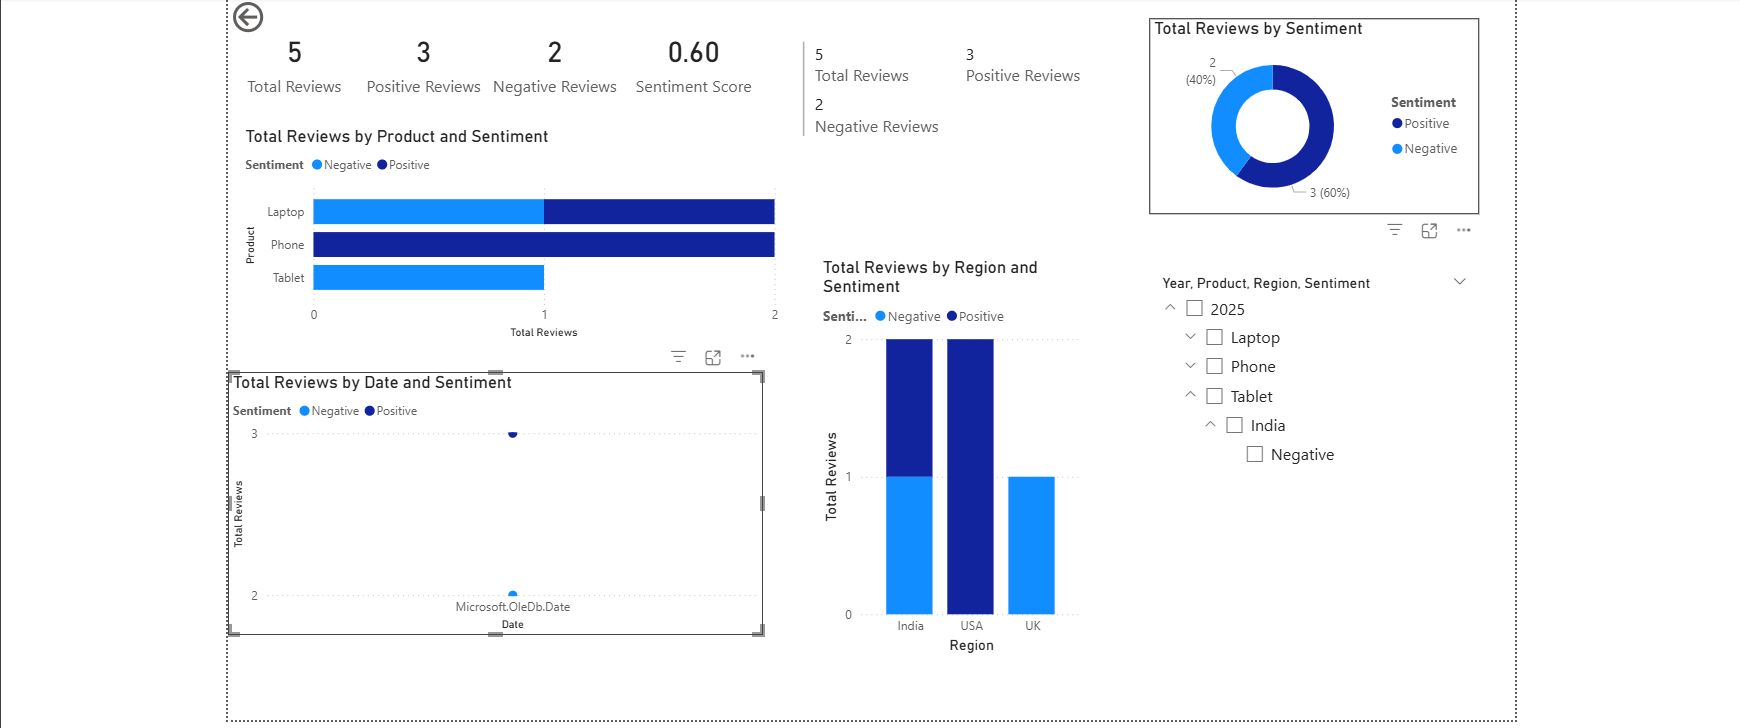

This screenshot's page, from the dashboard's own definition file:
{"tool":"powerbi","page":{"name":"Page 1","canvas":[1280,720],"ordinal":0},"visuals":[{"type":"card","fields":{"Values":["FactReviews.Total Reviews"]},"box":[9.6,0,112.5,127.6],"z":0},{"type":"card","fields":{"Values":["FactReviews.Positive Reviews"]},"box":[131.7,0,126.2,127.6],"z":1000},{"type":"card","fields":{"Values":["FactReviews.Negative Reviews"]},"box":[258,0,135.8,127.6],"z":2000},{"type":"card","fields":{"Values":["FactReviews.Sentiment Score"]},"box":[393.8,0,138.6,127.6],"z":3000},{"type":"multiRowCard","fields":{"Values":["FactReviews.Total Reviews","FactReviews.Positive Reviews","FactReviews.Negative Reviews"]},"box":[566.7,39.8,322.5,161.9],"z":4000},{"type":"donutChart","fields":{"Category":["FactReviews.Sentiment"],"Y":["FactReviews.Total Reviews"]},"box":[916.6,20.6,328,196.2],"z":5000},{"type":"barChart","fields":{"Category":["FactReviews.Product"],"Series":["FactReviews.Sentiment"],"Y":["FactReviews.Total Reviews"]},"box":[12.3,127.6,540.7,216.8],"z":6000},{"type":"actionButton","box":[0,0,100,40],"z":7000},{"type":"lineChart","fields":{"Y":["FactReviews.Total Reviews"],"Category":["FactReviews.Date"],"Series":["FactReviews.Sentiment"]},"box":[0,373.2,532.4,262.1],"z":8000},{"type":"columnChart","fields":{"Category":["FactReviews.Region"],"Y":["FactReviews.Total Reviews"],"Series":["FactReviews.Sentiment"]},"box":[587.3,259.3,267.6,399.3],"z":9000},{"type":"slicer","fields":{"Values":["FactReviews.Year","FactReviews.Product","FactReviews.Region","FactReviews.Sentiment"]},"box":[916.6,271.7,328,399.3],"z":9001}]}

Visuals, with their boxes on the page's 1280x720 design canvas (x1, y1, x2, y2). These are canvas units, not pixel positions in the 1740x728 screenshot, which may show the page scaled, cropped or inside an application window:
card - FactReviews.Total Reviews: 10:0:122:128
card - FactReviews.Positive Reviews: 132:0:258:128
card - FactReviews.Negative Reviews: 258:0:394:128
card - FactReviews.Sentiment Score: 394:0:532:128
multiRowCard - FactReviews.Total Reviews x FactReviews.Positive Reviews: 567:40:889:202
donutChart - FactReviews.Sentiment x FactReviews.Total Reviews: 917:21:1245:217
barChart - FactReviews.Product x FactReviews.Sentiment: 12:128:553:344
actionButton: 0:0:100:40
lineChart - FactReviews.Total Reviews x FactReviews.Date: 0:373:532:635
columnChart - FactReviews.Region x FactReviews.Total Reviews: 587:259:855:659
slicer - FactReviews.Year x FactReviews.Product: 917:272:1245:671
